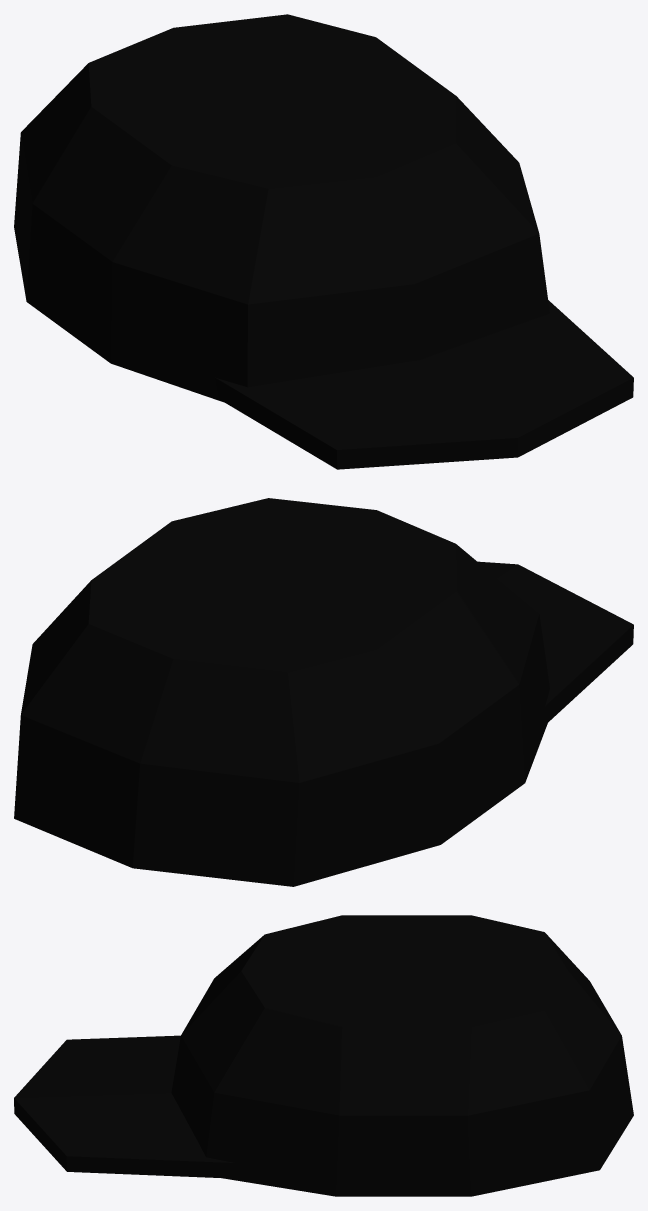
Rendered from Cap.glb.
3 views of the same model, one above another, from view 1: azimuth 30°, elevation 25°; view 2: azimuth 150°, elevation 25°; view 3: azimuth 270°, elevation 25° (orthographic). The views are drawn at different scales.
Parts seen in each view (by area): view 1: Cap; view 2: Cap; view 3: Cap.
Boxes of the visible parts, bbox=[...] form: Cap: bbox=[14, 14, 633, 469]; Cap: bbox=[14, 498, 633, 886]; Cap: bbox=[14, 915, 633, 1196].
Size of the model in its own units: 0.2181 by 0.0902 by 0.3516.
1 material, 1 textured.
